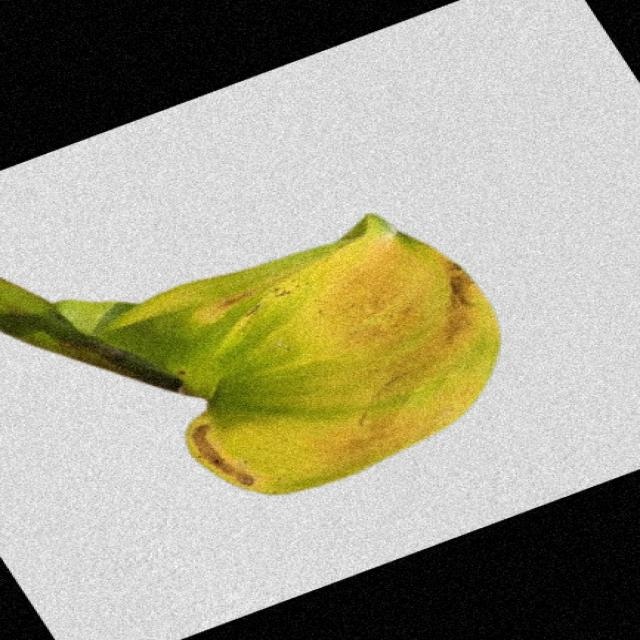daun berpenyakit kuning: (3, 215, 500, 493)
